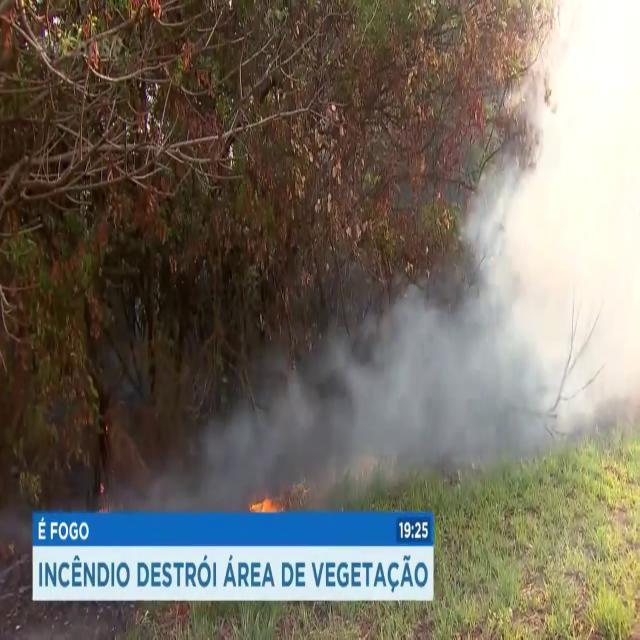Smoke: (337, 2, 640, 476)
